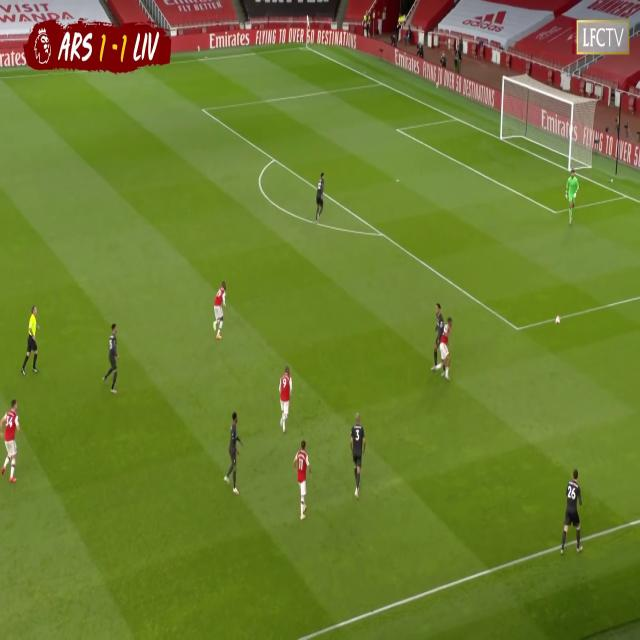ball: (556, 314, 560, 329)
team1: (562, 469, 587, 557), (224, 412, 246, 492), (350, 416, 367, 499), (104, 323, 122, 395), (430, 302, 447, 373), (313, 172, 325, 222)
team2: (3, 402, 23, 486), (294, 443, 310, 521), (440, 317, 456, 381), (279, 368, 293, 436), (213, 280, 228, 341)
